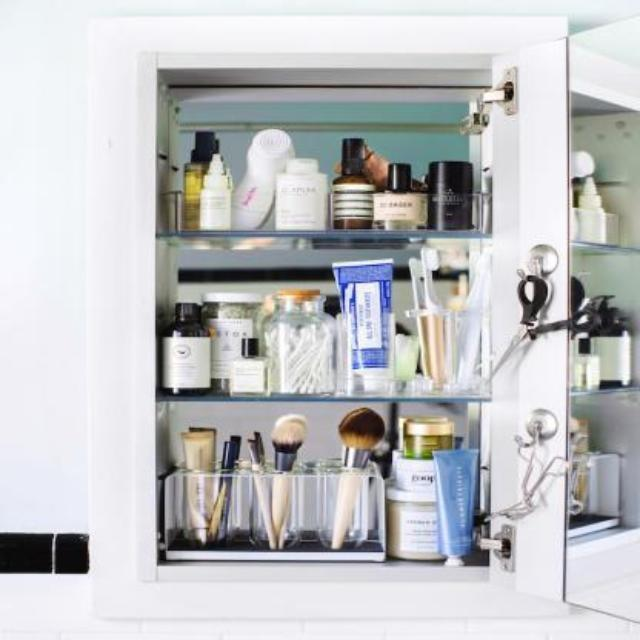Rak: (145, 57, 497, 592)
